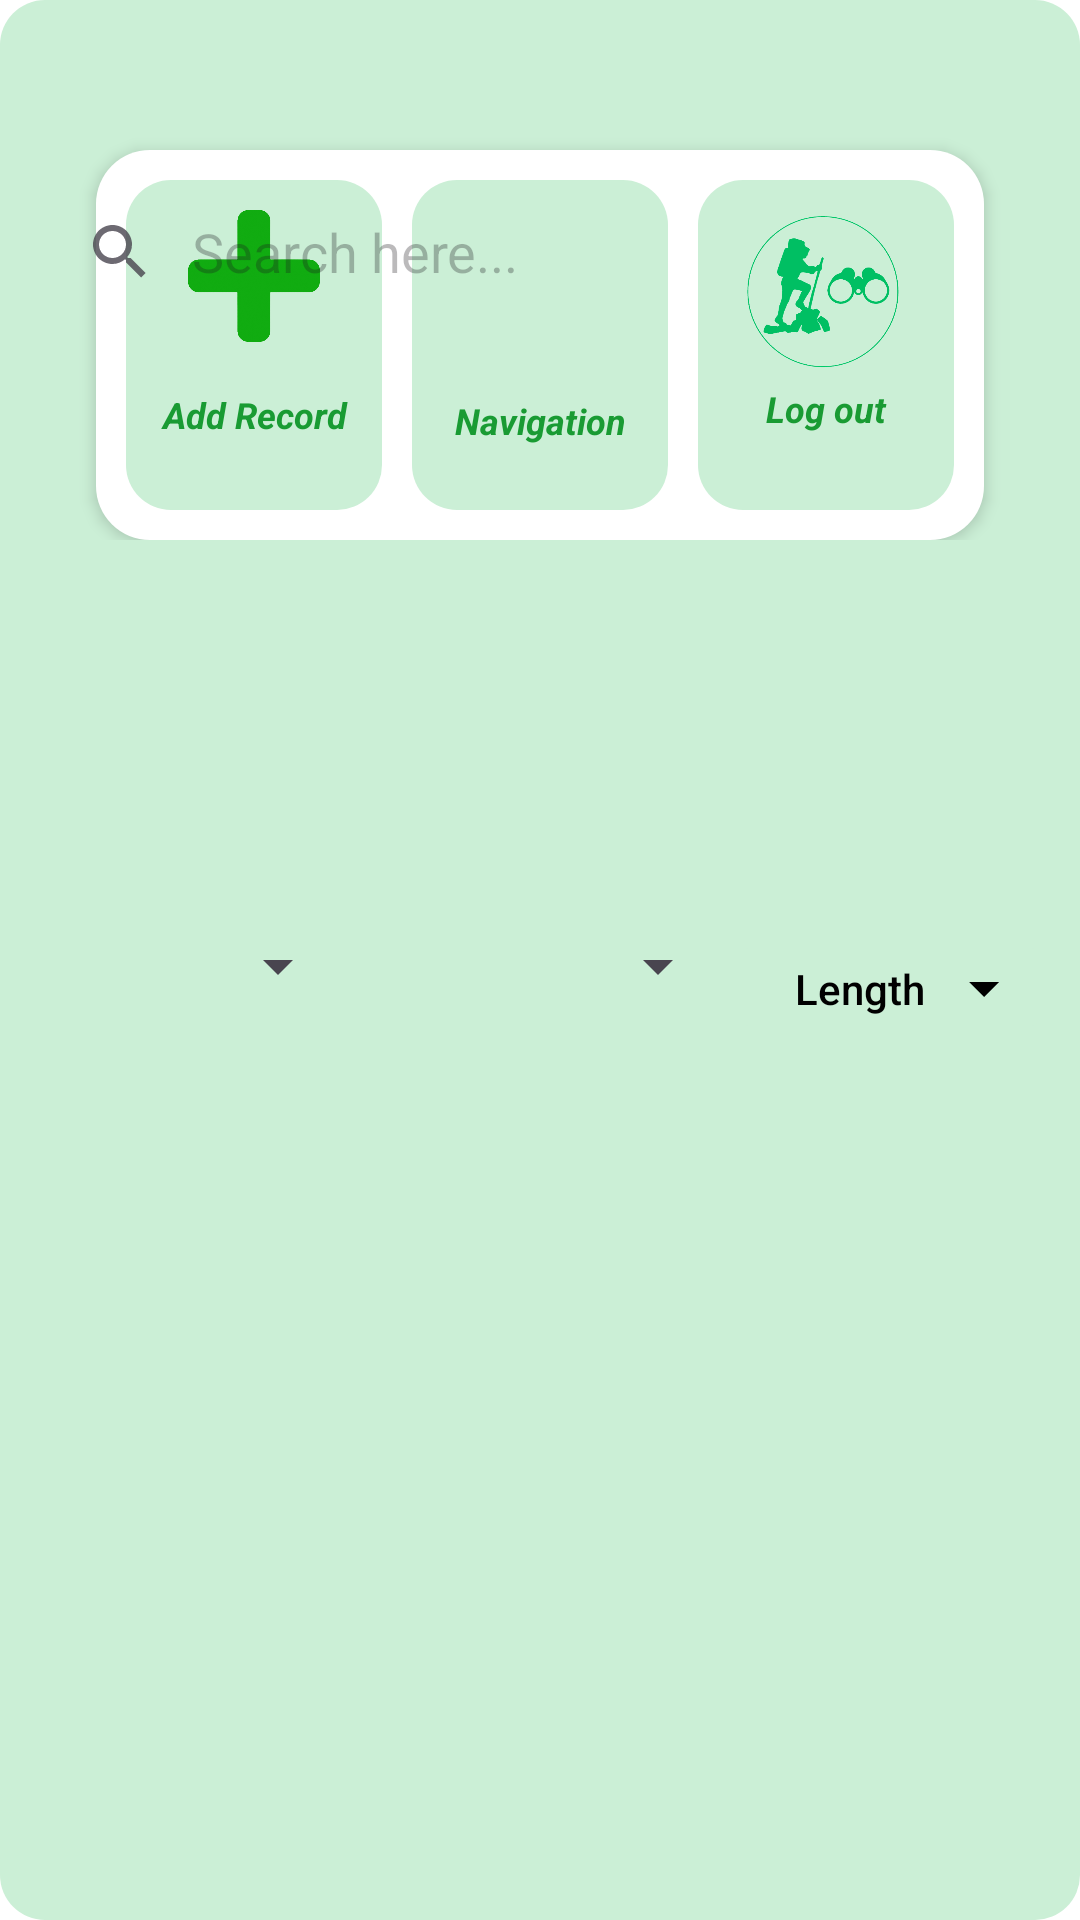

Icon click points for this 1080 × 1920 phone screenshot, format (x=x, y=y):
observation: (x=823, y=291)
